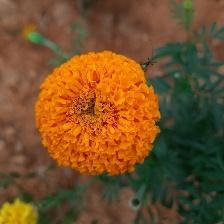marigold: (36, 51, 163, 178)
